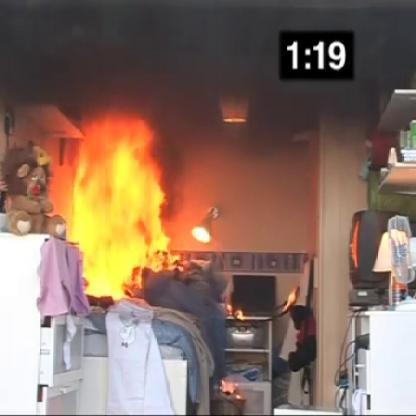fire: (57, 121, 177, 319)
smoke: (182, 198, 226, 253), (212, 99, 257, 141)
